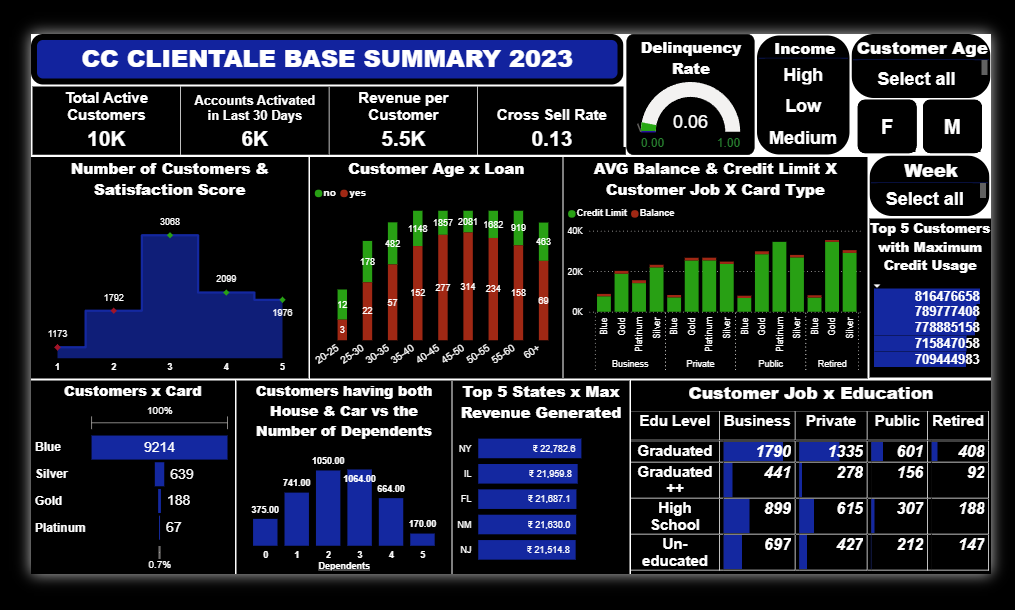

The dashboard page shown, as its layout file describes it:
{"tool":"powerbi","page":{"name":"Customer Dash","canvas":[1280,720],"ordinal":1},"visuals":[{"type":"lineChart","title":"Number of Customers & Satisfaction Score  ","fields":{"Category":["customer.Cust_Satisfaction_Score"],"Y":["CountNonNull(credit_card.Client_Num)"]},"box":[0,163.3,370,295],"z":0},{"type":"textbox","box":[0,0,790,67],"z":1000},{"type":"advancedSlicerVisual","fields":{"Values":["customer.Gender"]},"box":[1100,82.2,170,77.8],"z":2000},{"type":"advancedSlicerVisual","title":"Customer Age","fields":{"Values":["customer.AgeGroup"]},"box":[1093.3,0,185,85],"z":3000},{"type":"cardVisual","fields":{"Data":["credit_card.Active_customers","Sum(credit_card.Activation_30_Days)","credit_card.Revenue_per_customer","credit_card.Cross_Sell_Rate"]},"box":[0,68.3,796.7,98.3],"z":4000},{"type":"columnChart","title":"AVG Balance & Credit Limit X Customer Job X Card Type","fields":{"Category":["customer.Job_Sector","credit_card.Card_Category"],"Y":["Avg(credit_card.Credit_Limit)","Avg(credit_card.Total_Revolving_Bal)"]},"box":[710,163.3,405,295],"z":5000},{"type":"pivotTable","title":"Customer Job x Education","fields":{"Values":["CountNonNull(customer.Client_Num)"],"Rows":["customer.Qualification"],"Columns":["customer.Job_Sector"]},"box":[800,461.7,480,258.3],"z":6000},{"type":"advancedSlicerVisual","title":"Income","fields":{"Values":["customer.IncomeGroup"]},"box":[968.3,1.7,123.3,158.3],"z":7000},{"type":"qnaVisual","box":[790,0,150,150],"z":8000},{"type":"gauge","title":"Delinquency Rate","fields":{"Y":["credit_card.Delinquency_Rate"],"MinValue":["Min(credit_card.Delinquent_Acc)"],"MaxValue":["Max(credit_card.Delinquent_Acc)"]},"box":[794.1,0,170.6,161.3],"z":9000},{"type":"tableEx","title":"Top 5 Customers with Maximum Credit Usage","fields":{"Values":["customer.Client_Num"]},"box":[1118.3,246.7,161.7,211.7],"z":10000},{"type":"advancedSlicerVisual","title":"Week","fields":{"Values":["credit_card.Week_Start_Date"]},"box":[1118.2,162.8,159.7,80.6],"z":11000},{"type":"funnel","title":"Customers x Card ","fields":{"Category":["credit_card.Card_Category"],"Y":["credit_card.Active_customers"]},"box":[0,461.7,271.7,258.3],"z":12000},{"type":"lineStackedColumnComboChart","title":"Customers having both House & Car vs the Number of Dependents ","fields":{"Category":["customer.Dependent_Count"],"Y":["CountNonNull(customer.Client_Num)"]},"box":[273.3,461.7,286.7,258.3],"z":13000},{"type":"ribbonChart","title":"Customer Age x Loan","fields":{"Category":["customer.AgeGroup"],"Series":["customer.Personal_loan"],"Y":["CountNonNull(customer.Personal_loan)"]},"box":[371.7,163.3,336.7,295],"z":14000},{"type":"clusteredBarChart","title":"Top 5 States x Max Revenue Generated","fields":{"Category":["customer.state_cd"],"Y":["Max(credit_card.Revenue)"]},"box":[561.7,461.7,236,258.3],"z":15000}]}

Visuals, with their boxes in screenshot pixels (x1, y1, x2, y2):
"Number of Customers & Satisfaction Score  " lineChart: {"left": 24, "top": 155, "right": 303, "bottom": 377}
textbox: {"left": 24, "top": 32, "right": 620, "bottom": 82}
advancedSlicerVisual - customer.Gender: {"left": 853, "top": 94, "right": 982, "bottom": 152}
"Customer Age" advancedSlicerVisual: {"left": 848, "top": 32, "right": 988, "bottom": 96}
cardVisual - credit_card.Active_customers x Sum(credit_card.Activation_30_Days): {"left": 24, "top": 83, "right": 625, "bottom": 157}
"AVG Balance & Credit Limit X Customer Job X Card Type" columnChart: {"left": 559, "top": 155, "right": 865, "bottom": 377}
"Customer Job x Education" pivotTable: {"left": 627, "top": 380, "right": 989, "bottom": 575}
"Income" advancedSlicerVisual: {"left": 754, "top": 33, "right": 847, "bottom": 152}
qnaVisual: {"left": 620, "top": 32, "right": 733, "bottom": 145}
"Delinquency Rate" gauge: {"left": 623, "top": 32, "right": 751, "bottom": 153}
"Top 5 Customers with Maximum Credit Usage" tableEx: {"left": 867, "top": 218, "right": 989, "bottom": 377}
"Week" advancedSlicerVisual: {"left": 867, "top": 155, "right": 988, "bottom": 215}
"Customers x Card " funnel: {"left": 24, "top": 380, "right": 229, "bottom": 575}
"Customers having both House & Car vs the Number of Dependents " lineStackedColumnComboChart: {"left": 230, "top": 380, "right": 446, "bottom": 575}
"Customer Age x Loan" ribbonChart: {"left": 304, "top": 155, "right": 558, "bottom": 377}
"Top 5 States x Max Revenue Generated" clusteredBarChart: {"left": 447, "top": 380, "right": 625, "bottom": 575}
